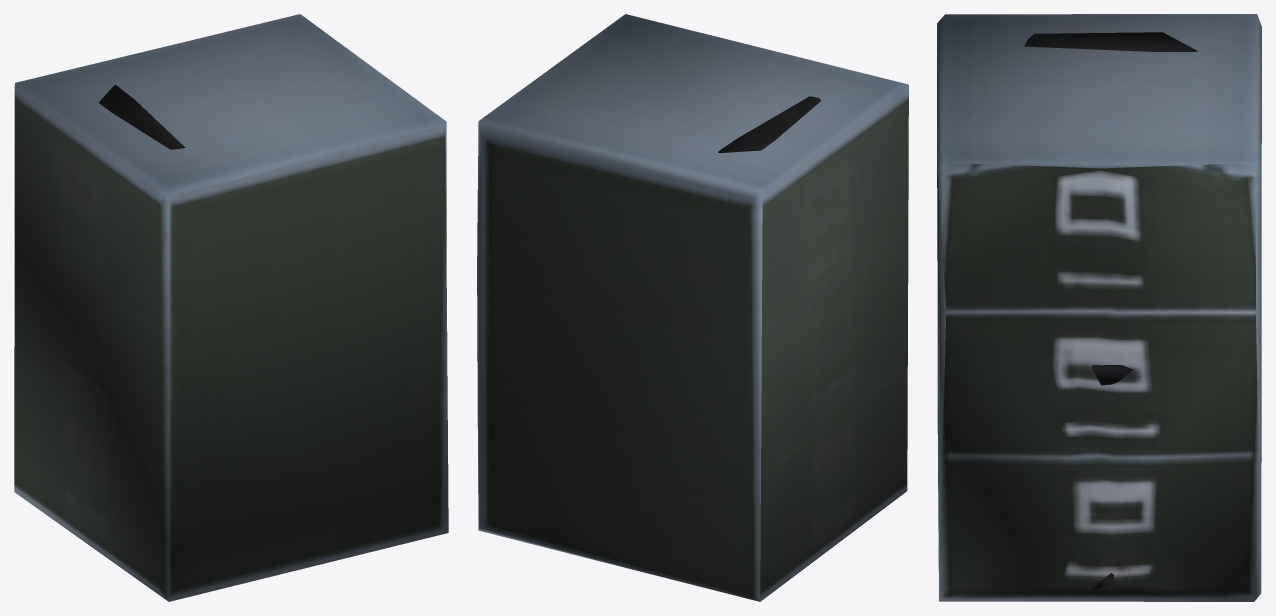
Rendered from items.glb.
3 views of the same model, side by side, from view 1: azimuth 30°, elevation 25°; view 2: azimuth 150°, elevation 25°; view 3: azimuth 270°, elevation 25° (orthographic). The views are drawn at different scales.
Parts seen in each view (by area): view 1: file cabinet, office chair; view 2: file cabinet, office chair; view 3: file cabinet, office chair.
Part boxes in pixels (x1=…): file cabinet: x1=14, y1=14, x2=448, y2=601; office chair: x1=98, y1=84, x2=185, y2=149; file cabinet: x1=477, y1=14, x2=908, y2=601; office chair: x1=718, y1=96, x2=820, y2=153; file cabinet: x1=937, y1=14, x2=1261, y2=601; office chair: x1=1024, y1=32, x2=1197, y2=590.
Size of the model in its own units: 0.7378 by 1.01 by 0.6674.
2 materials, 2 textured.
